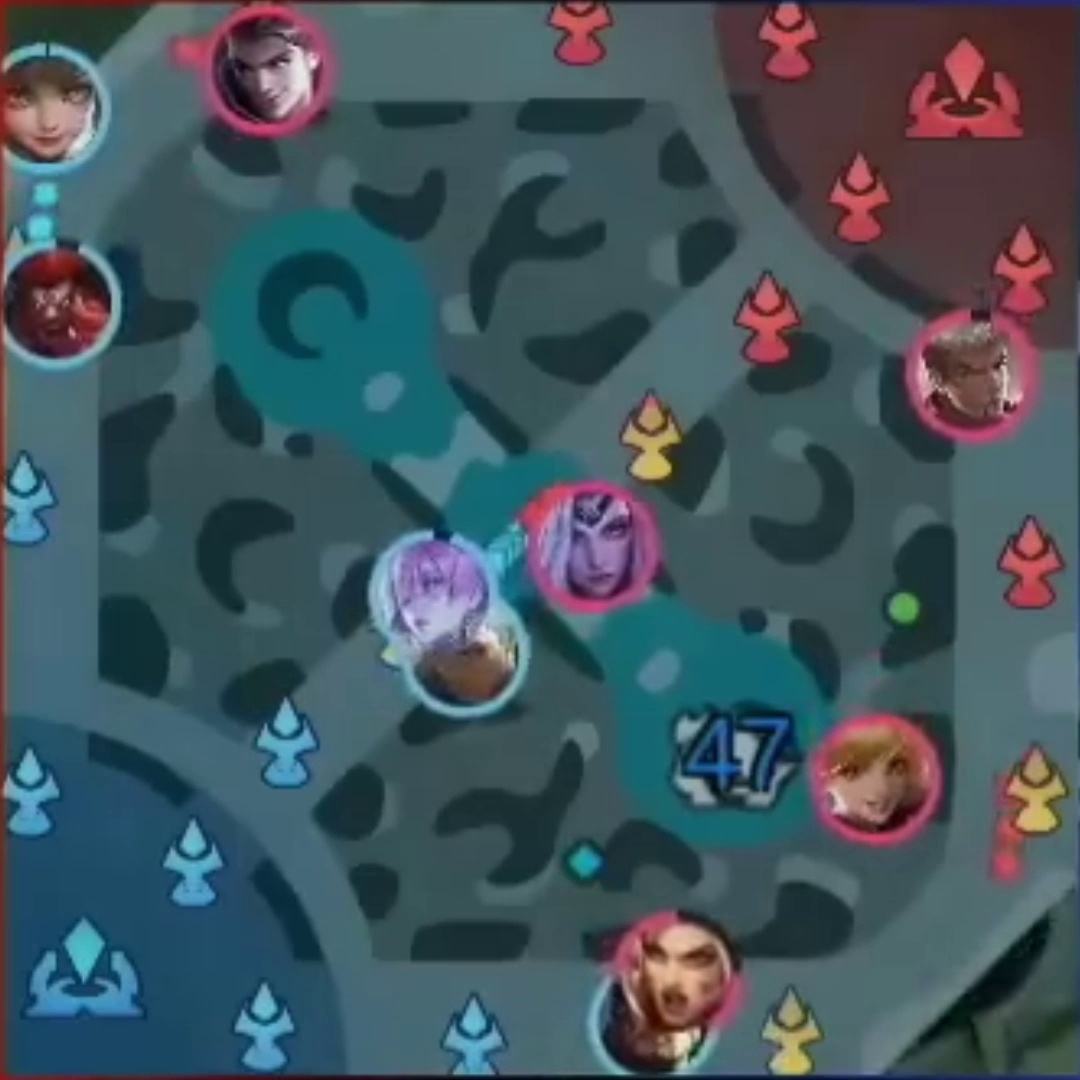Chou: (935, 328, 1008, 425)
Claude: (222, 25, 308, 118)
Fanny: (827, 730, 922, 827)
Fredrinn: (437, 630, 508, 699)
Lapu-Lapu: (611, 1017, 696, 1066)
Masha: (641, 927, 721, 1017)
Minotaur: (18, 256, 100, 349)
Novaria: (386, 550, 478, 636)
Valentina: (548, 499, 635, 594)
Wanwan: (11, 61, 94, 154)
